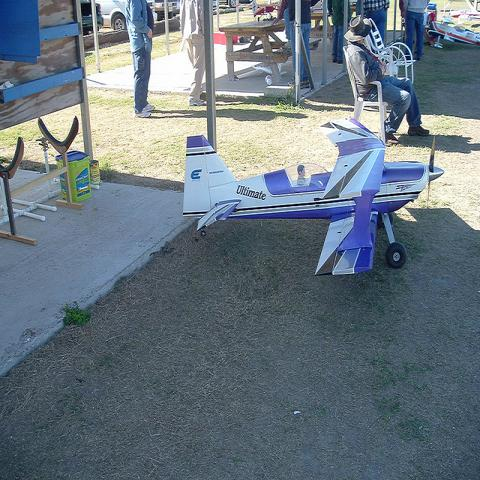car: (97, 0, 127, 31), (80, 0, 104, 34), (213, 0, 254, 8), (154, 3, 166, 20)
